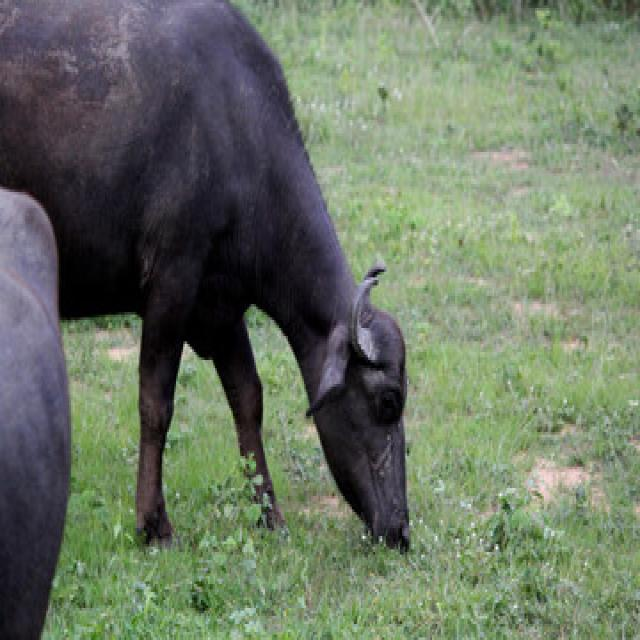Buffalo: (5, 0, 420, 568)
